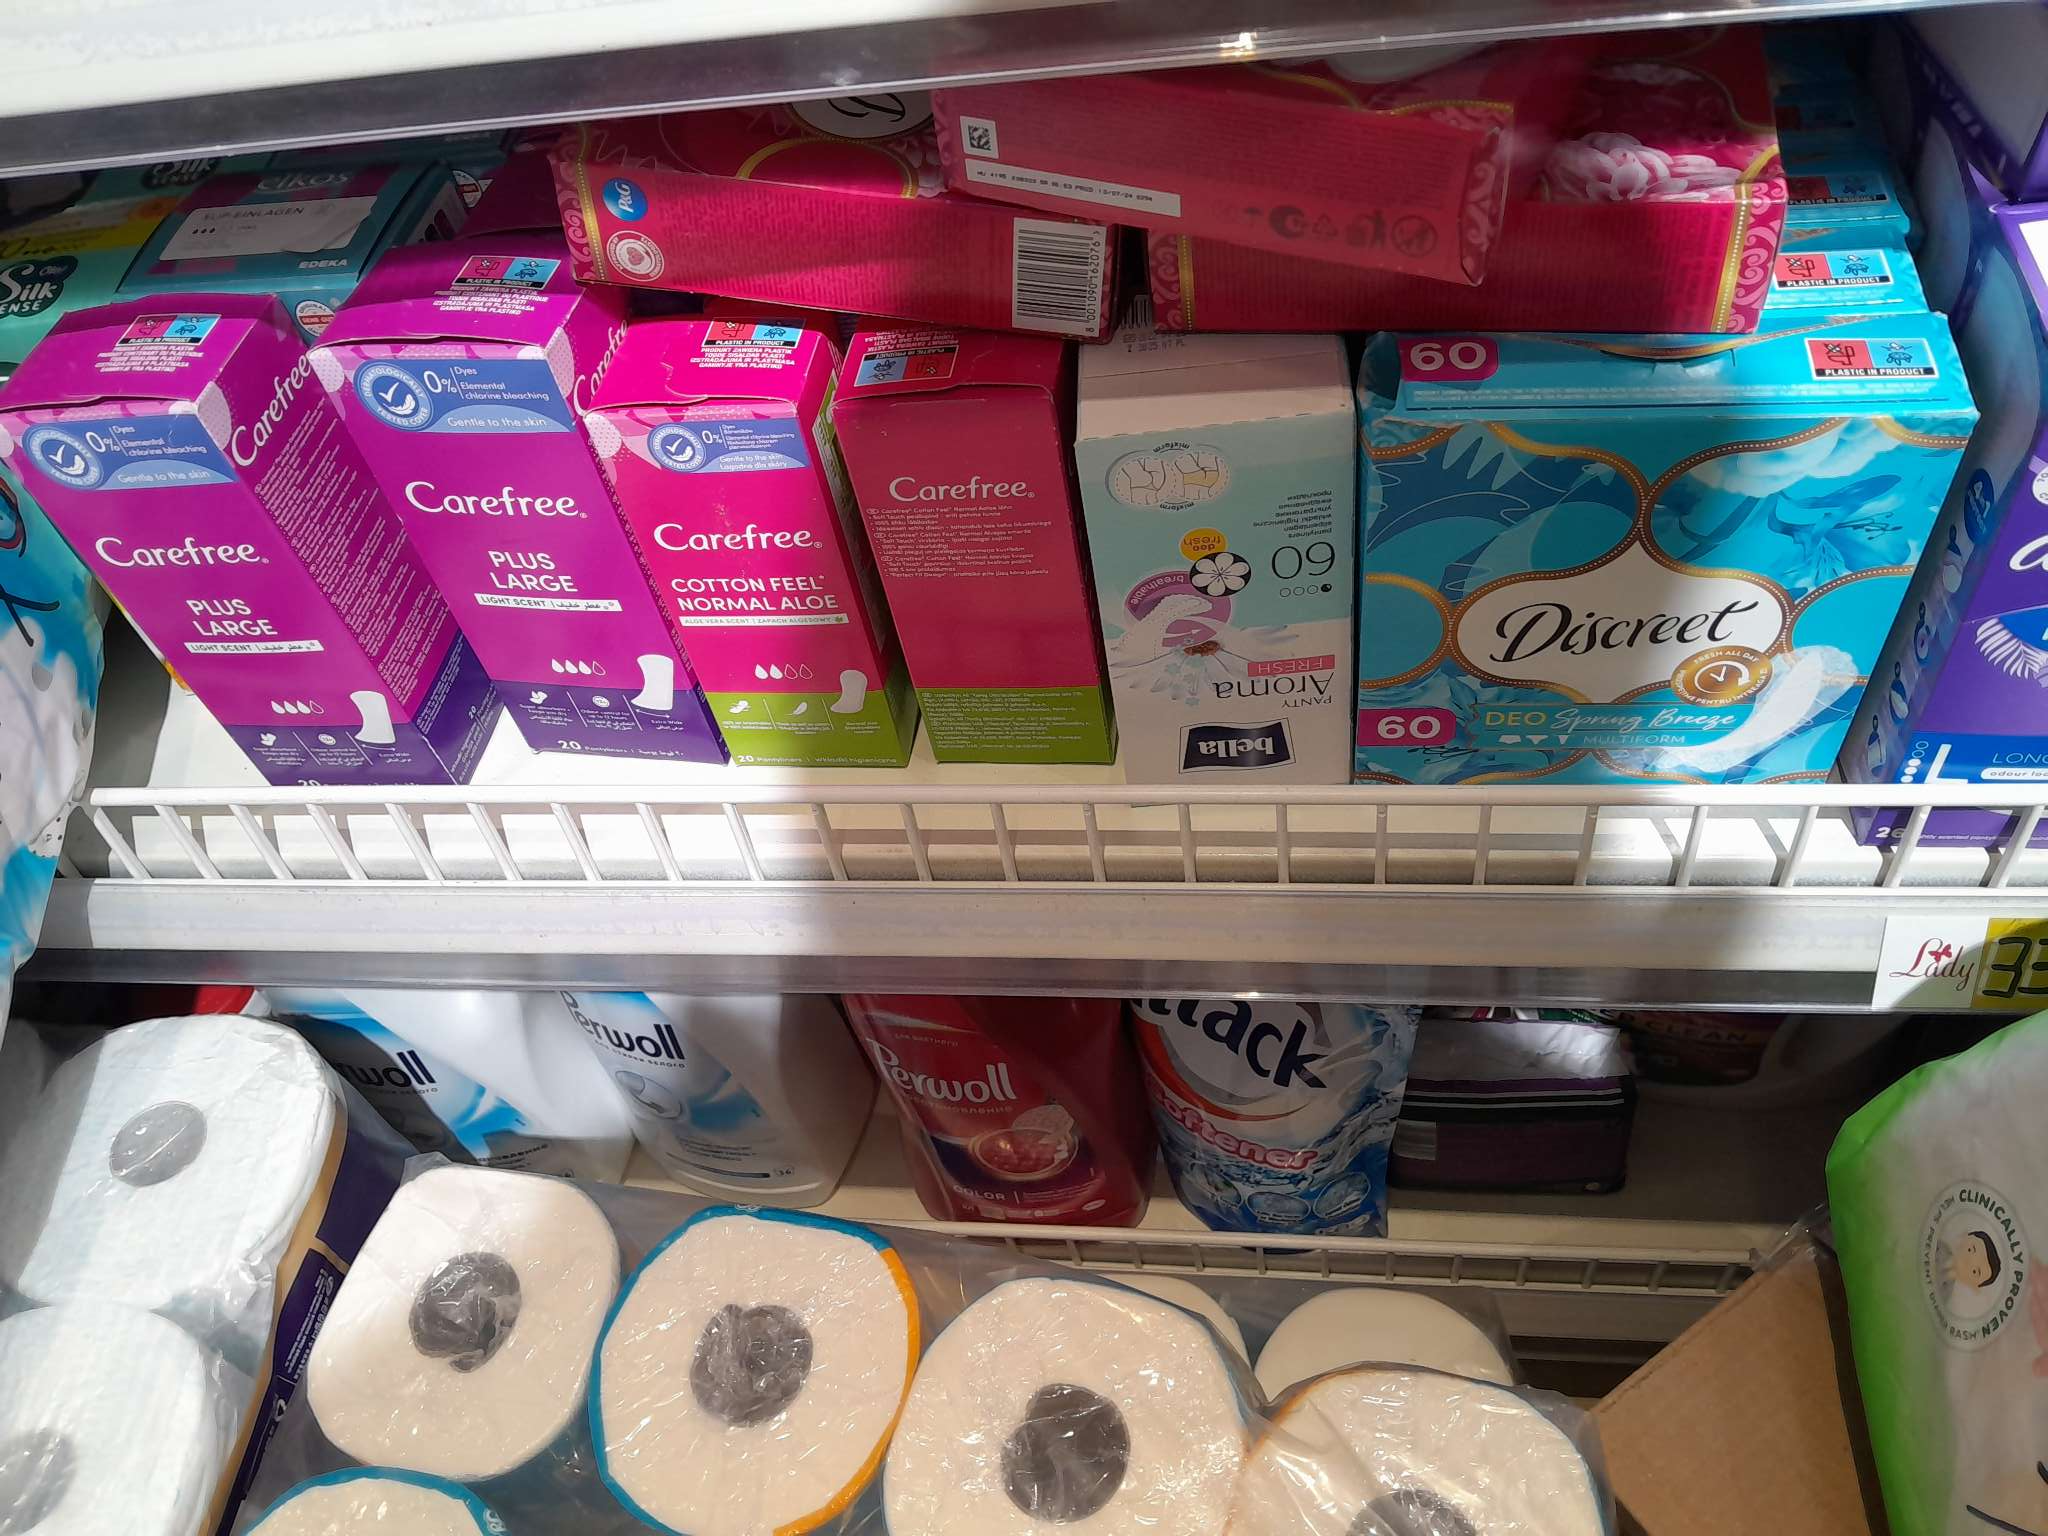attack: (1126, 994, 1380, 1213)
bella: (1103, 371, 1324, 795)
carefree: (19, 342, 368, 784), (337, 310, 632, 755), (598, 282, 834, 786), (853, 324, 1080, 784)
discreet: (1367, 342, 1925, 784)
perwoll: (842, 1000, 1098, 1229), (548, 989, 813, 1192), (314, 989, 502, 1137)
